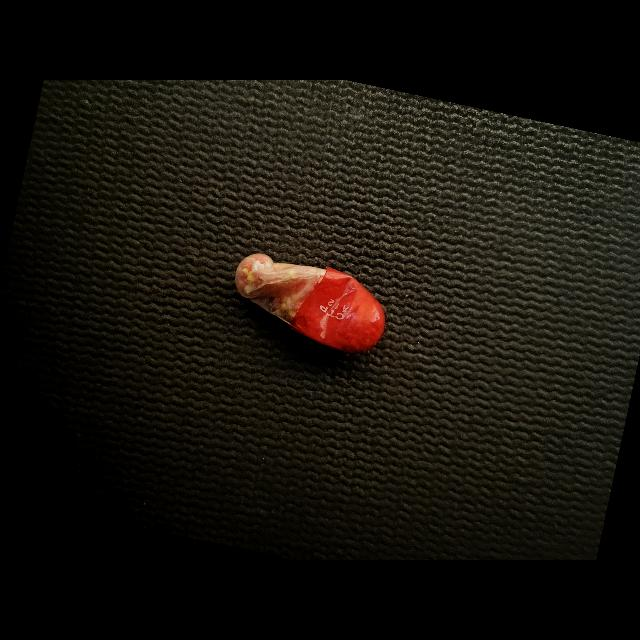Defective Capsule: (235, 253, 385, 352)
